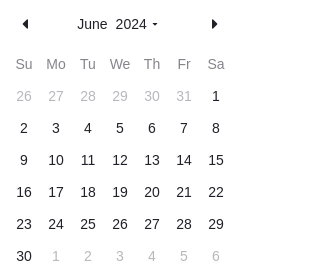
Test: DateRangePicker › navigates to the next month when the next chevron is clicked
Click the button named "go to the next month". click: (214, 24)
box: top-left (196, 8), bottom-right (232, 40)
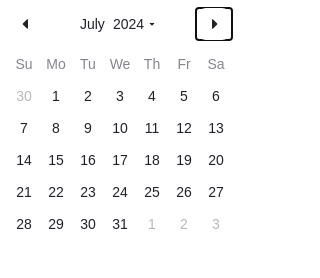
Expected: the table named "july 2024" is shown, top-left (8, 48), bottom-right (232, 240)
